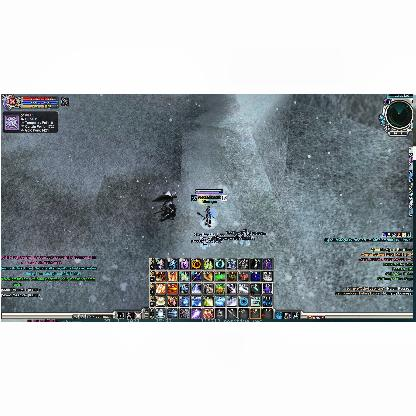caliana: (152, 190, 178, 220)
